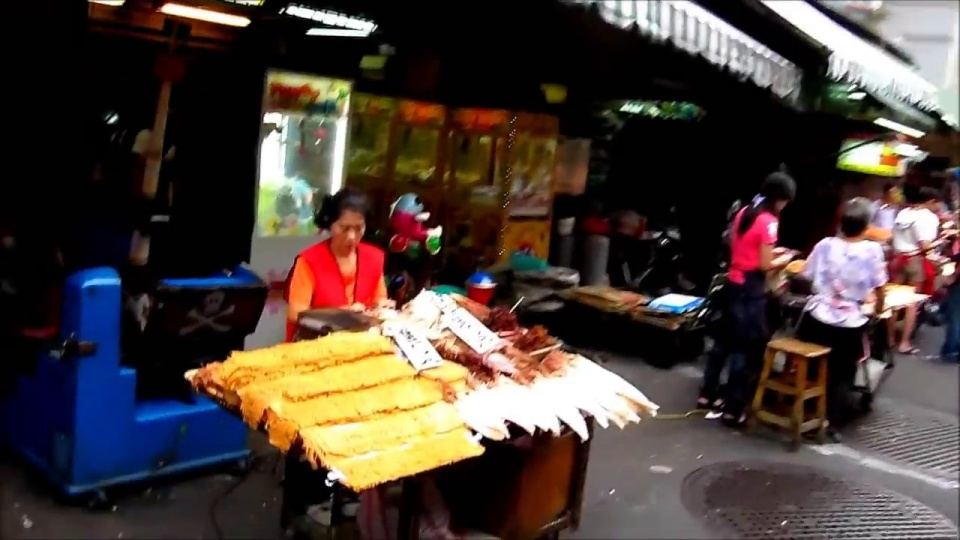person_head: (735, 171, 795, 246), (312, 198, 374, 253), (839, 201, 870, 238), (920, 183, 944, 217), (884, 184, 905, 213), (945, 166, 959, 208)
person_vbox: (699, 170, 804, 432), (801, 201, 888, 446), (282, 194, 387, 359), (891, 184, 945, 357), (926, 166, 960, 360), (875, 177, 905, 244)
